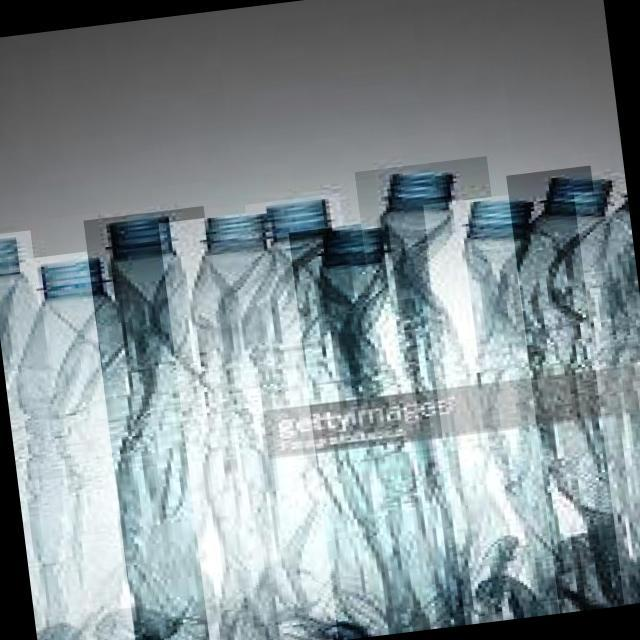good: (83, 205, 258, 640), (288, 216, 465, 640), (158, 209, 324, 640), (7, 245, 183, 640), (244, 193, 392, 640), (506, 165, 640, 613), (0, 229, 83, 640), (422, 188, 584, 372), (573, 187, 640, 604), (354, 156, 502, 302)
